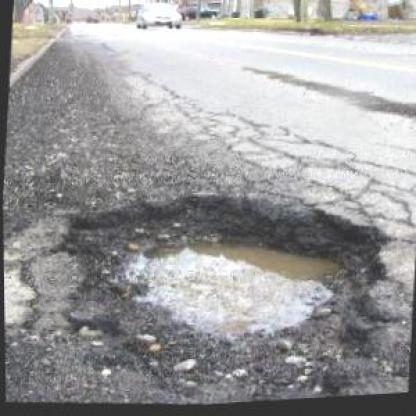pothole: (50, 176, 401, 412)
